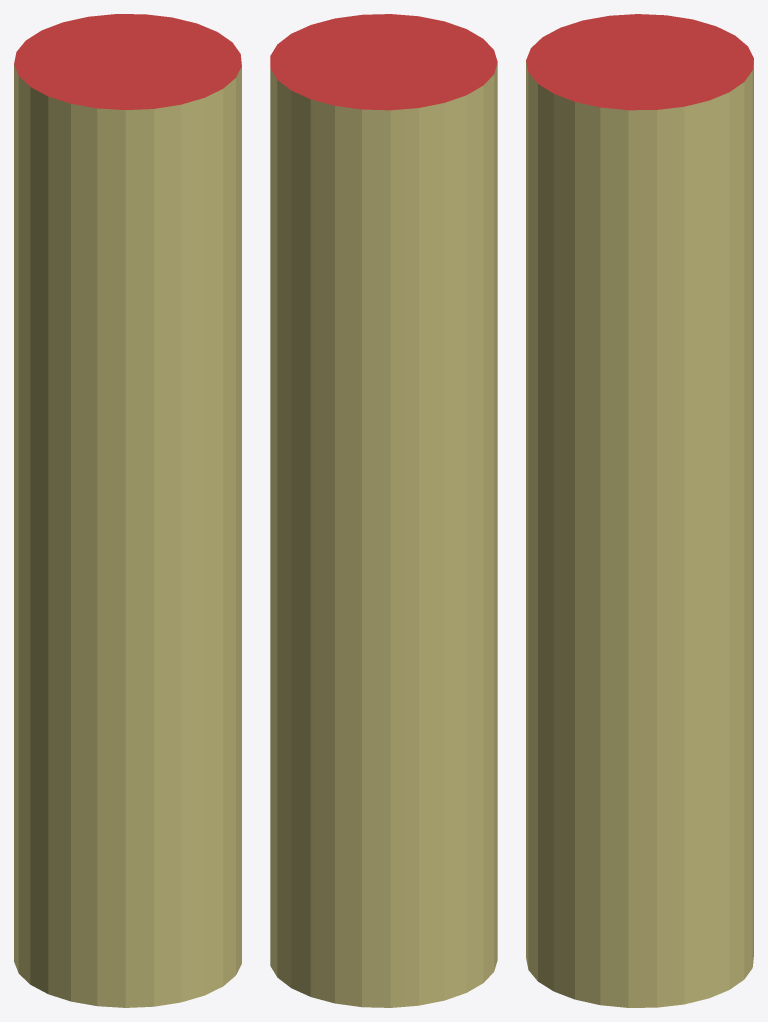
3 views of the same model, side by side, from view 1: azimuth 30°, elevation 25°; view 2: azimuth 150°, elevation 25°; view 3: azimuth 270°, elevation 25° (orthographic).
Bounding box in the file's own units: 2.3 × 2.3 × 10.
